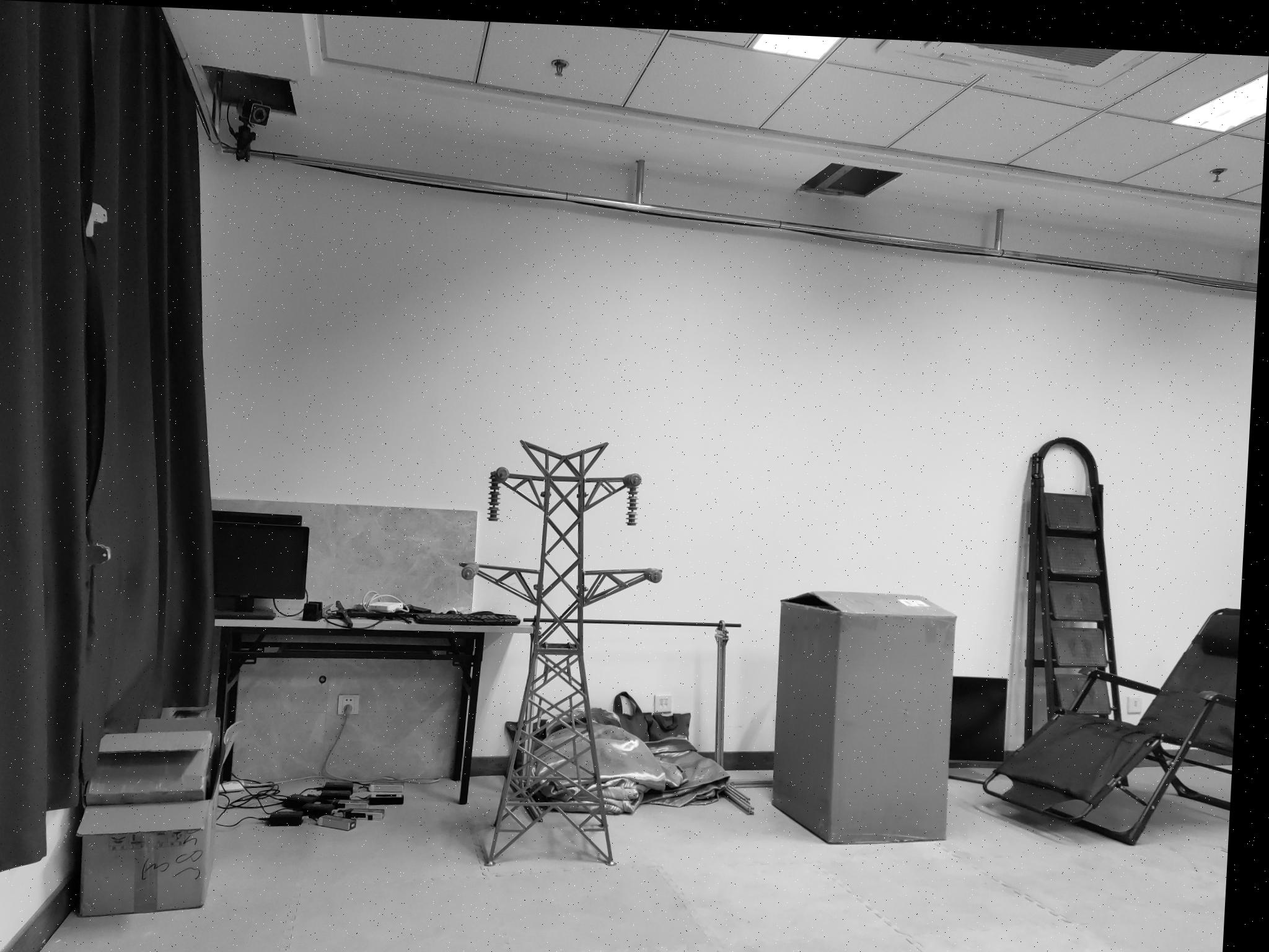tower: (444, 436, 672, 869)
